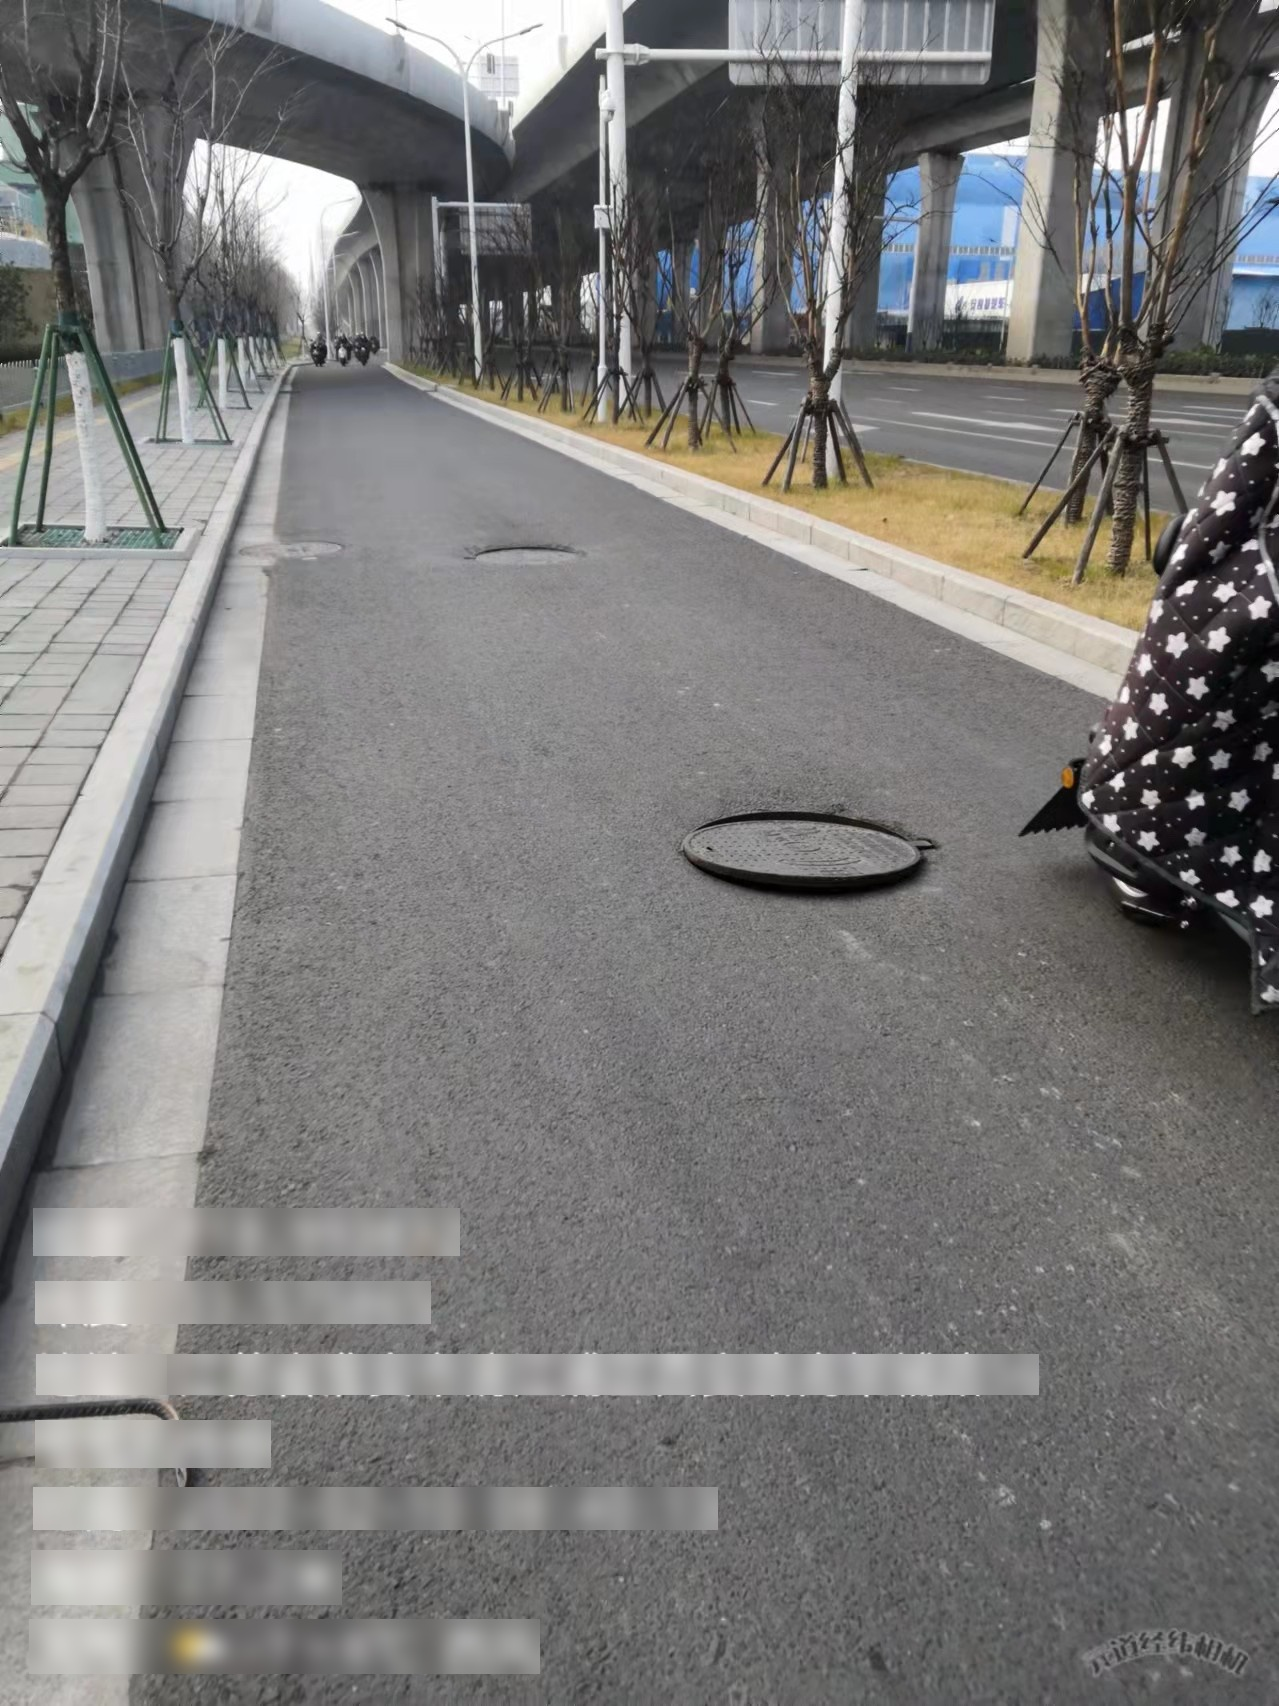well: (673, 809, 936, 905)
